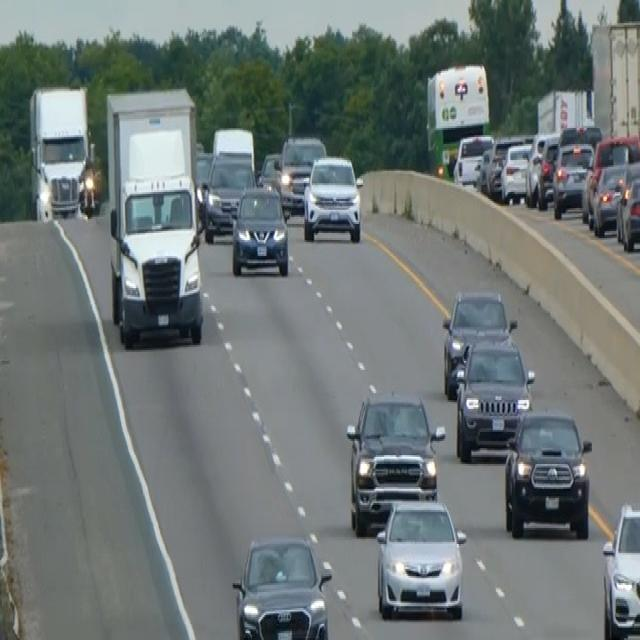bus: (424, 60, 491, 180)
car: (345, 388, 445, 534), (373, 494, 468, 620), (503, 407, 592, 539), (231, 532, 333, 638), (454, 332, 535, 462), (440, 284, 515, 396), (230, 182, 289, 278), (582, 132, 639, 230), (302, 151, 362, 242), (600, 500, 639, 638), (202, 148, 256, 242), (278, 133, 327, 215), (551, 138, 593, 218), (590, 160, 626, 236), (525, 132, 559, 208), (486, 133, 524, 199), (452, 130, 493, 187), (615, 158, 639, 251), (499, 140, 531, 204), (257, 150, 281, 190)
lorry: (104, 85, 205, 348), (27, 82, 92, 222)
motorcycle: (77, 167, 98, 217)
